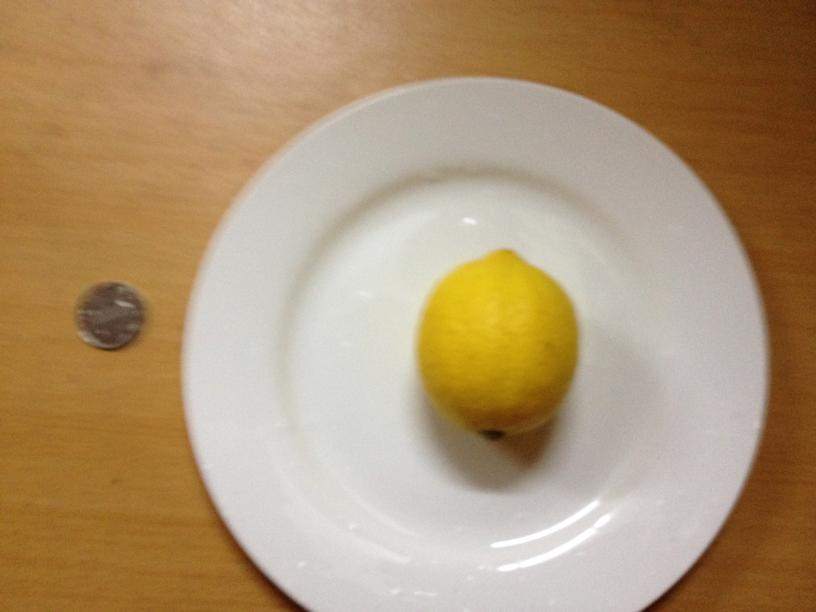coin: (72, 281, 142, 350)
lemon: (417, 245, 578, 439)
